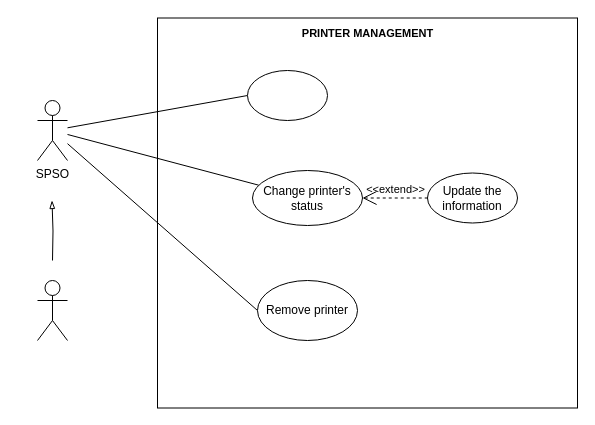
The diagram is 595 pixels wide and 425 high, and some of its shapes have lost their labels. The centre of each missing label's shape, as x and y in pixels:
Add new printer: (x=287, y=95)
Administrator: (x=52, y=310)
